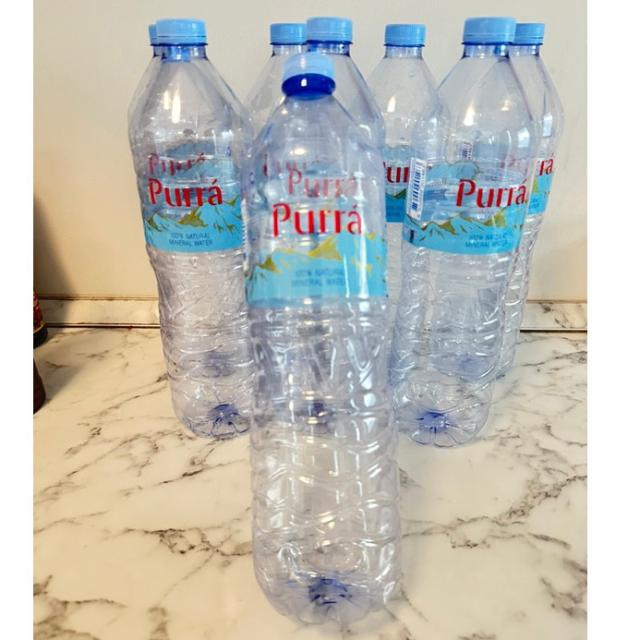plastik: (248, 52, 401, 622), (390, 18, 538, 446), (129, 19, 254, 438), (498, 22, 564, 376), (368, 24, 436, 318)
